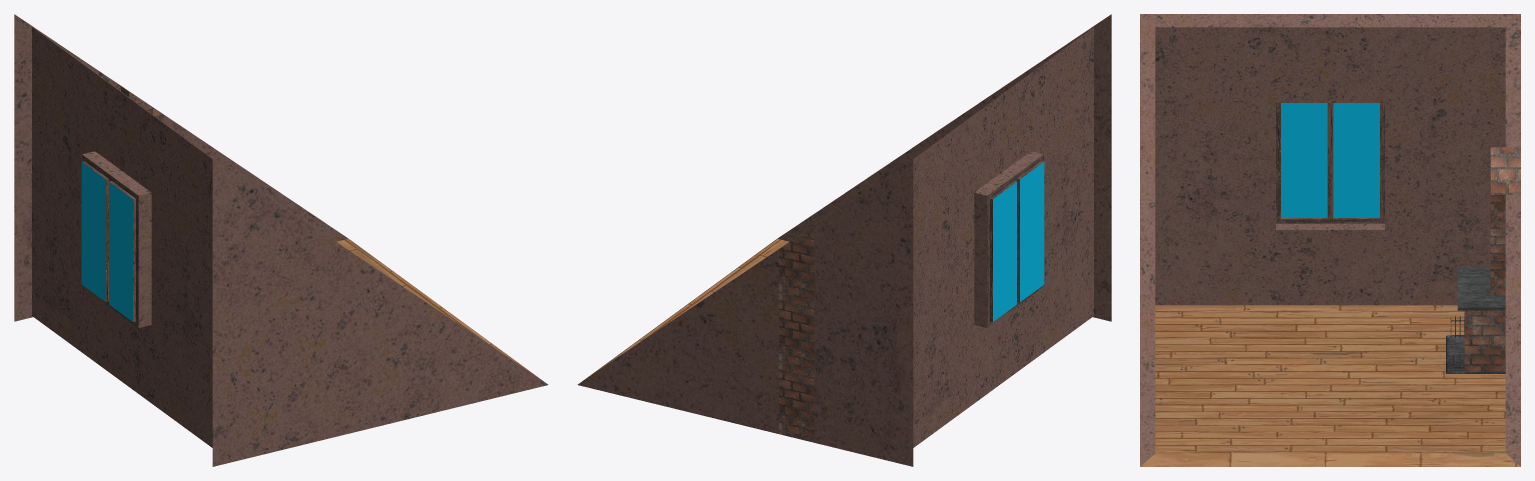
File: Interior.fbx
The picture shows the model from 3 angles, left to right: view 1: azimuth 30°, elevation 25°; view 2: azimuth 150°, elevation 25°; view 3: azimuth 270°, elevation 25°; orthographic projection. The views are drawn at different scales.
Parts seen in each view (by area): view 1: window glass; view 2: window glass; view 3: window glass.
Part boxes in pixels (x1,y1,x2,y2): window glass: [14, 14, 548, 466]; window glass: [577, 14, 1111, 466]; window glass: [1140, 14, 1520, 466].
Size of the model in its own units: 265 by 228 by 266.
